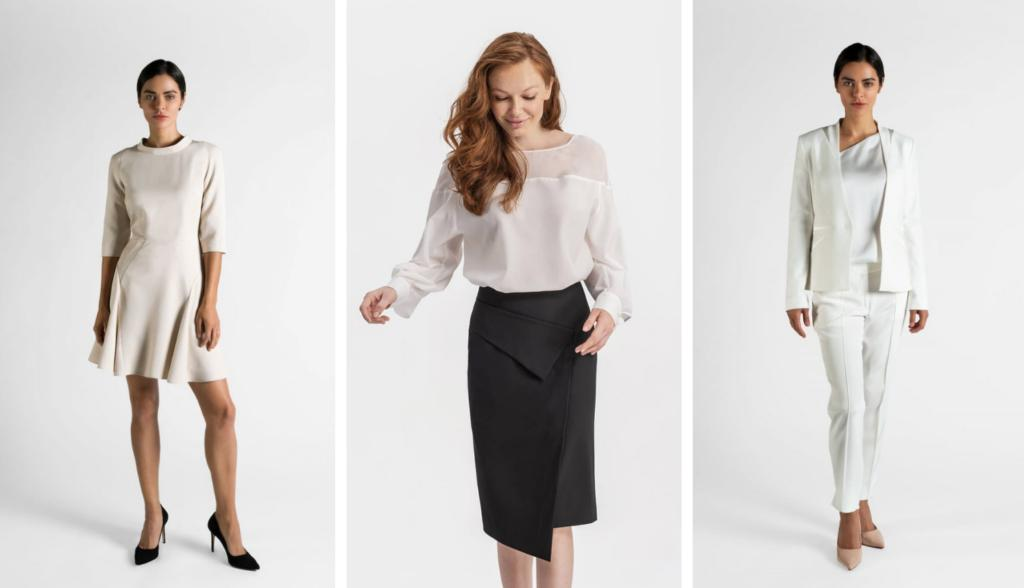dress: (87, 133, 235, 385)
jacket: (784, 117, 930, 317)
long sleeve shirt: (378, 130, 636, 328)
short sleeve shirt: (834, 132, 887, 264)
skirt: (463, 284, 606, 563)
trousers: (810, 286, 912, 517)
